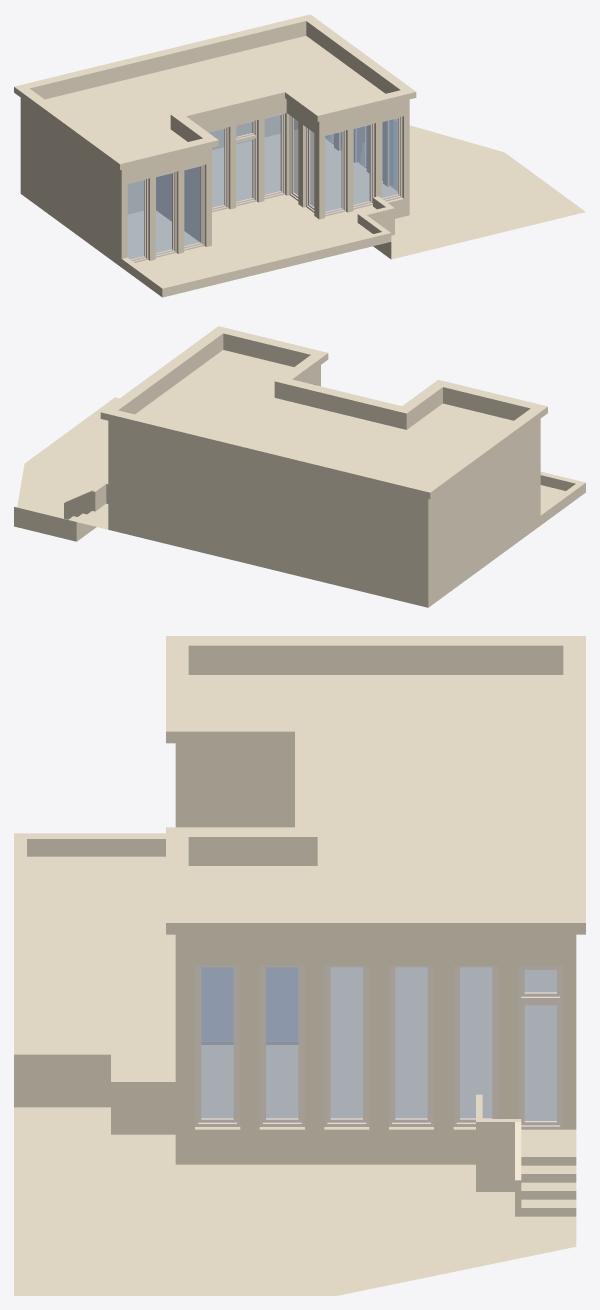
The picture shows the model from 3 angles, top to bottom: view 1: azimuth 30°, elevation 25°; view 2: azimuth 150°, elevation 25°; view 3: azimuth 270°, elevation 25°; orthographic projection. The views are drawn at different scales.
Visible parts, largest first — view 1: 20143, 18726, 18370, w1 (×8), 18526, C2 (×7), 18161, C1 (×4), w2 (×4), 20647; view 2: 18370, 18726, 20143, 18526; view 3: 20143, 18726, w2 (×7), 18526, 18370, C1 (×6), 20995, 18161, Component#1, Component#3, Component#2.
Part boxes in pixels (<box>): 20143: <box>121,121,585,297</box>; 18726: <box>14,14,416,169</box>; 18370: <box>20,17,311,267</box>; w1 (×8): <box>127,113,402,262</box>; 18526: <box>125,19,409,183</box>; C2 (×7): <box>148,113,381,260</box>; 18161: <box>127,163,211,246</box>; C1 (×4): <box>298,115,409,219</box>; w2 (×4): <box>289,115,397,212</box>; 20647: <box>236,120,256,206</box>; 18370: <box>108,406,540,607</box>; 18726: <box>100,326,547,499</box>; 20143: <box>14,397,585,541</box>; 18526: <box>112,329,533,429</box>; 20143: <box>14,833,576,1295</box>; 18726: <box>166,636,585,934</box>; w2 (×7): <box>195,965,498,1126</box>; 18526: <box>175,645,563,965</box>; 18370: <box>175,640,576,1129</box>; C1 (×6): <box>175,965,517,1129</box>; 20995: <box>518,965,563,1129</box>; 18161: <box>175,774,294,827</box>; Component#1: <box>515,1199,576,1216</box>; Component#3: <box>521,1165,576,1182</box>; Component#2: <box>521,1182,576,1199</box>.
Size of the model in its own units: 15.15 by 4.2 by 8.85.
